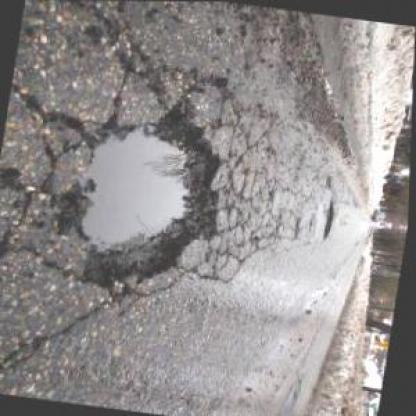pothole: (39, 88, 242, 310), (323, 198, 340, 238)
